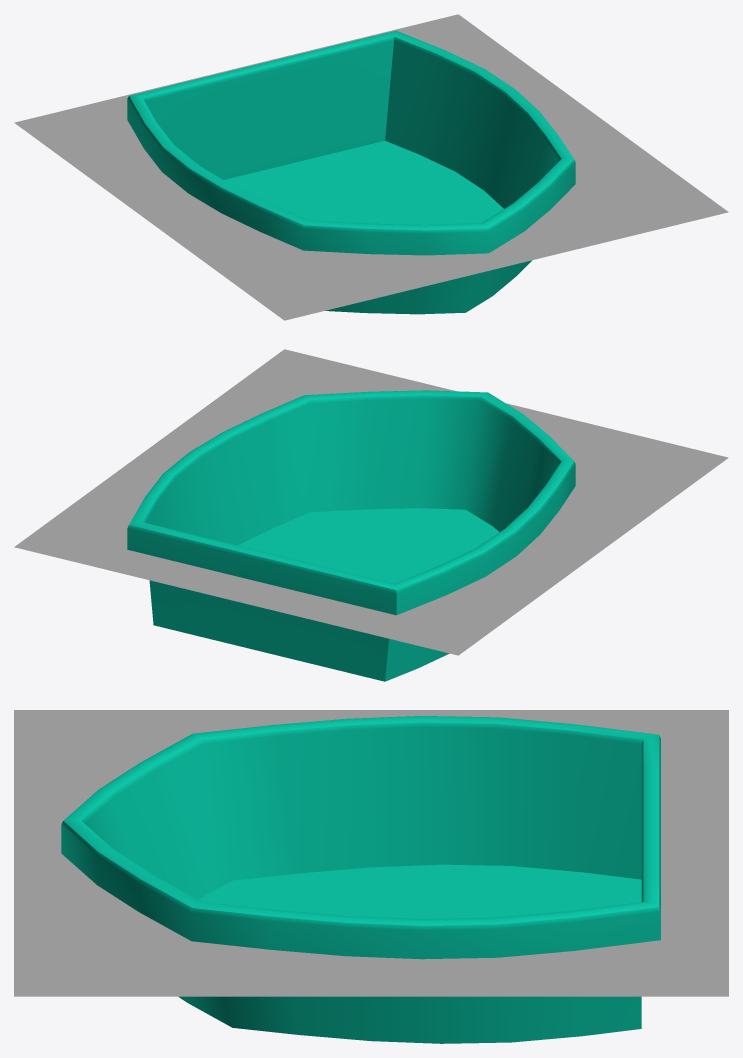
The model's file is worship_candles_low.fbx.
The picture shows the model from 3 angles, top to bottom: view 1: azimuth 30°, elevation 25°; view 2: azimuth 150°, elevation 25°; view 3: azimuth 270°, elevation 25°; orthographic projection. The views are drawn at different scales.
Parts seen in each view (by area): view 1: polySurface1, polySurface2; view 2: polySurface1, polySurface2; view 3: polySurface1, polySurface2.
Boxes of the visible parts, x1,y1,x2,y2 form: polySurface1: (127, 30, 575, 314); polySurface2: (14, 14, 728, 320); polySurface1: (127, 390, 575, 681); polySurface2: (14, 349, 728, 655); polySurface1: (61, 716, 660, 1043); polySurface2: (14, 710, 728, 996).
Size of the model in its own units: 1.78 by 0.39 by 1.87.
